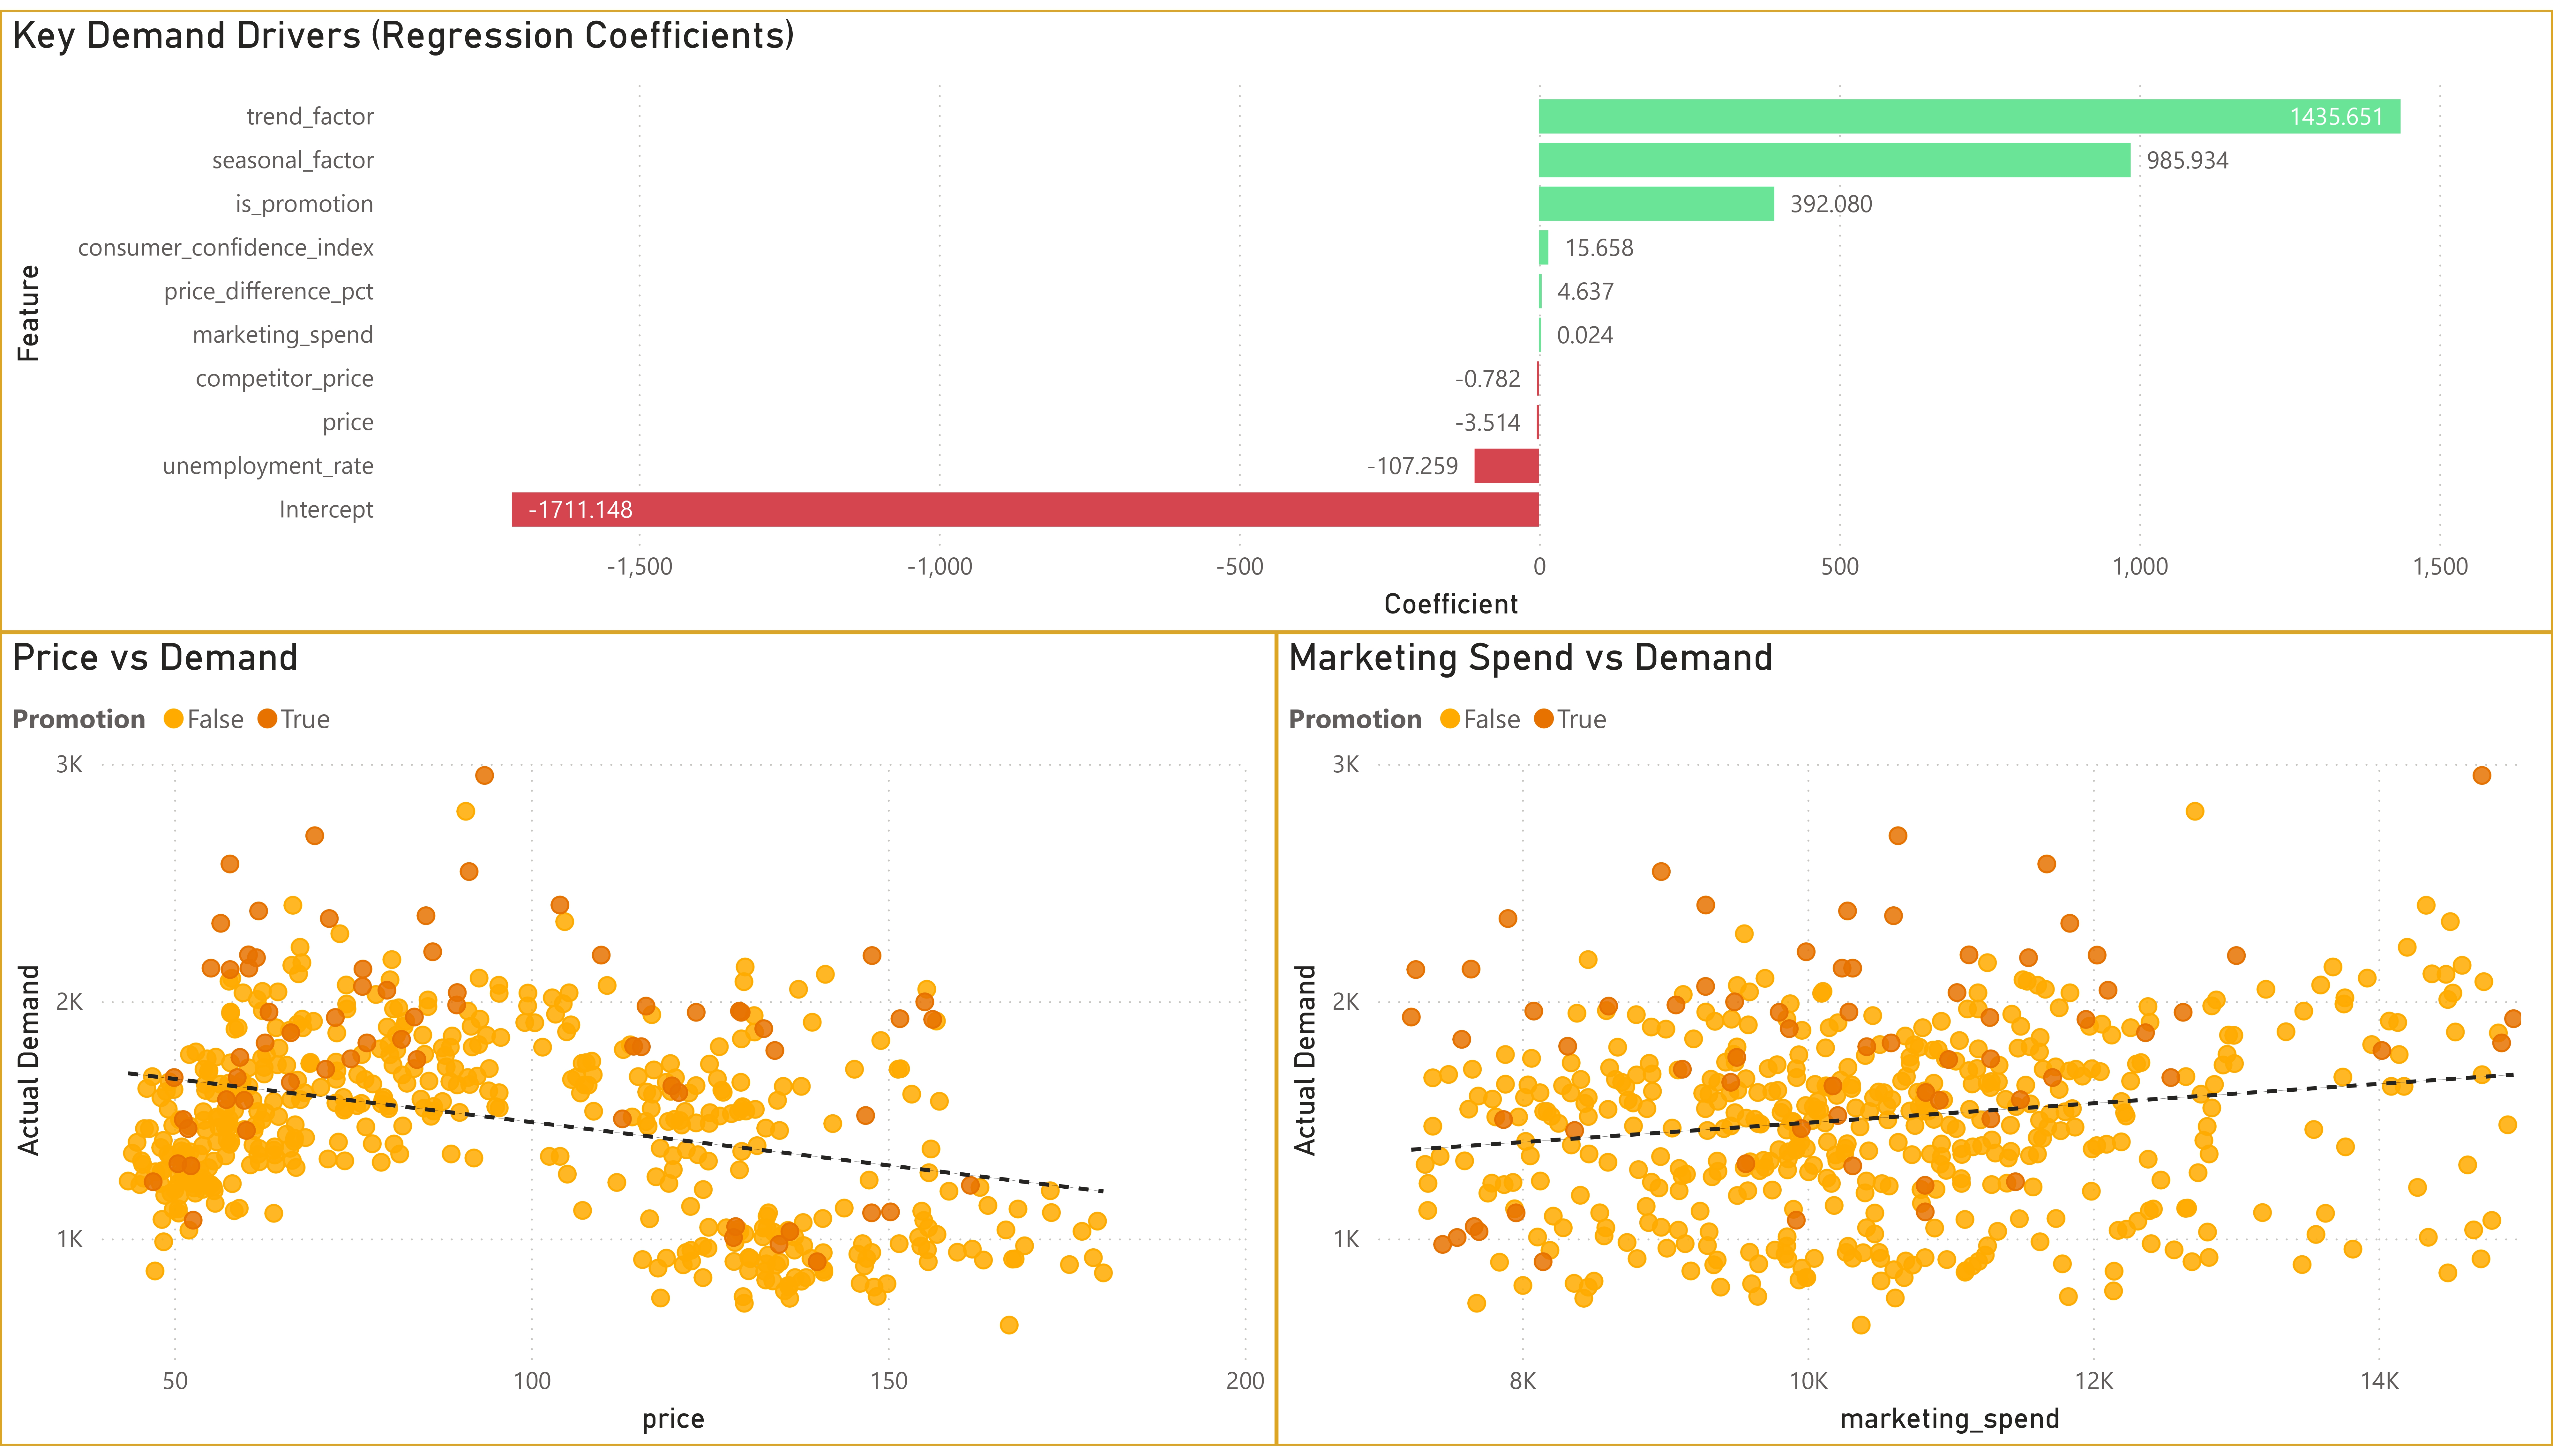

Layout of this report page (visuals, bound fields, positions):
{"tool":"powerbi","page":{"name":"Actual vs Predicted Scatter","canvas":[1280,720],"ordinal":1},"visuals":[{"type":"clusteredBarChart","title":"Key Demand Drivers (Regression Coefficients)","fields":{"Category":["model_coefficients.Feature"],"Y":["Sum(model_coefficients.Coefficient)"]},"box":[0,0,1280,311.7],"z":0},{"type":"scatterChart","title":"Price vs Demand","fields":{"X":["predictions_vs_actuals.price"],"Y":["predictions_vs_actuals.Actual Demand"],"Series":["predictions_vs_actuals.is_promotion"]},"box":[0,311.7,640,408.3],"z":1000},{"type":"scatterChart","title":"Marketing Spend vs Demand","fields":{"X":["predictions_vs_actuals.marketing_spend"],"Series":["predictions_vs_actuals.is_promotion"],"Y":["predictions_vs_actuals.Actual Demand"]},"box":[640,311.7,640,408.3],"z":2000}]}

Visuals, with their boxes in screenshot pixels (x1, y1, x2, y2), scaled from the page's 1280x720 canvas onto the 2553x1456 screenshot:
"Key Demand Drivers (Regression Coefficients)" clusteredBarChart: l=0, t=0, r=2553, b=630
"Price vs Demand" scatterChart: l=0, t=630, r=1276, b=1456
"Marketing Spend vs Demand" scatterChart: l=1276, t=630, r=2553, b=1456
